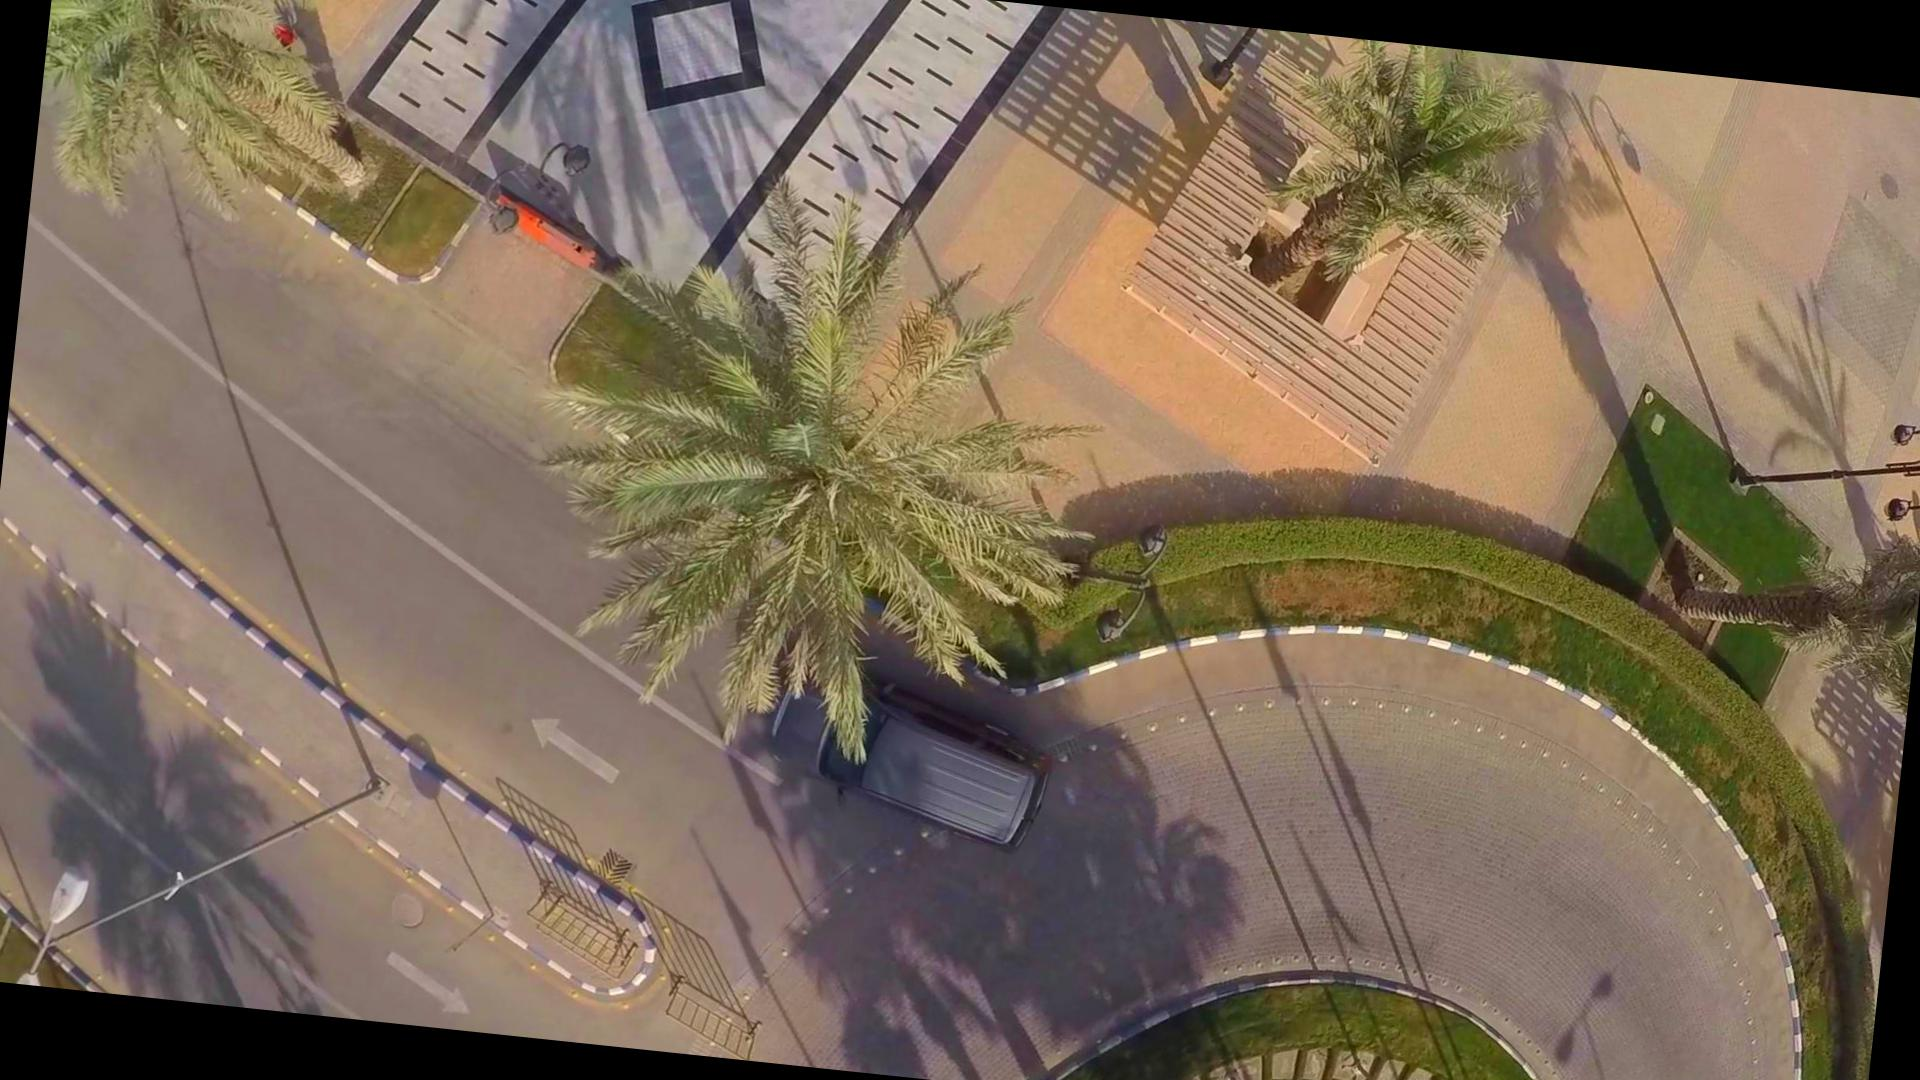vehicle: (745, 651, 1064, 866)
